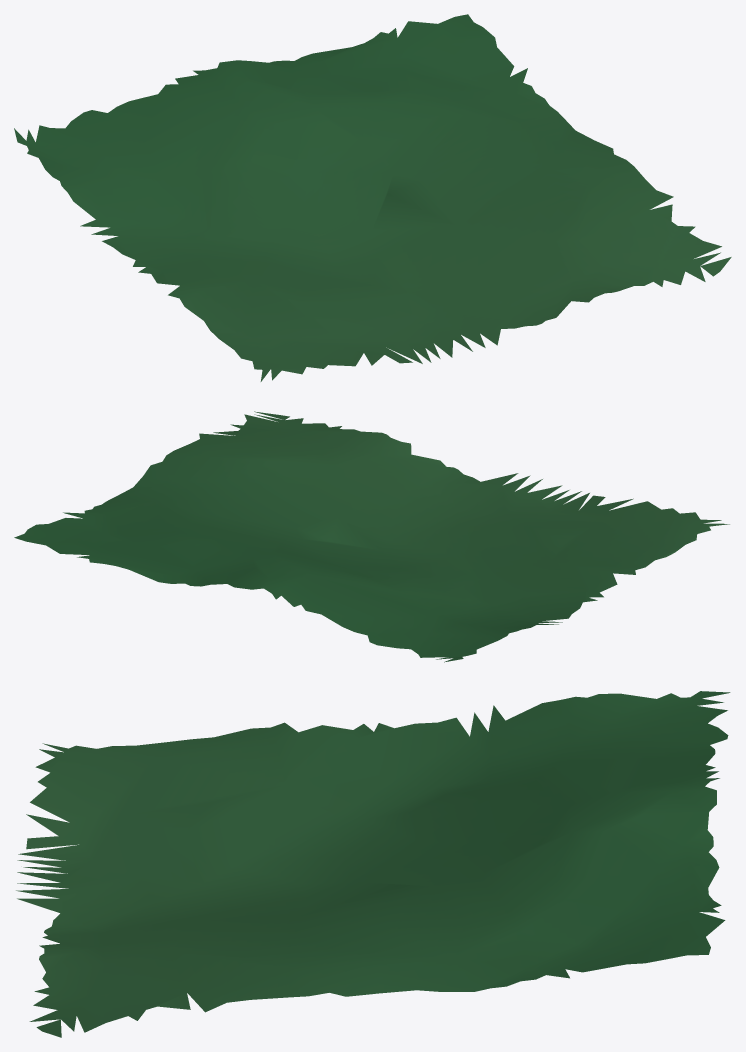
Rendered from payo_land_x2_y6_lod2.glb.
3 views of the same model, one above another, from view 1: azimuth 30°, elevation 25°; view 2: azimuth 150°, elevation 25°; view 3: azimuth 270°, elevation 25° (orthographic). The views are drawn at different scales.
Parts seen in each view (by area): view 1: payo_land_x2_y6; view 2: payo_land_x2_y6; view 3: payo_land_x2_y6.
Part boxes in pixels (box(x1,y1,x2,y2)): payo_land_x2_y6: box(14, 14, 731, 381); payo_land_x2_y6: box(14, 411, 729, 662); payo_land_x2_y6: box(16, 691, 730, 1037).
Bounding box in the file's own units: 273 × 45.94 × 274.
